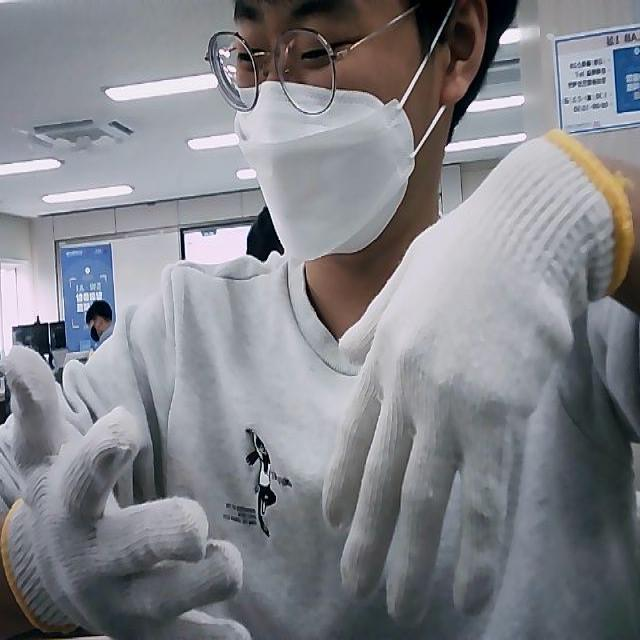gloves: (320, 132, 634, 624), (1, 343, 251, 640)
